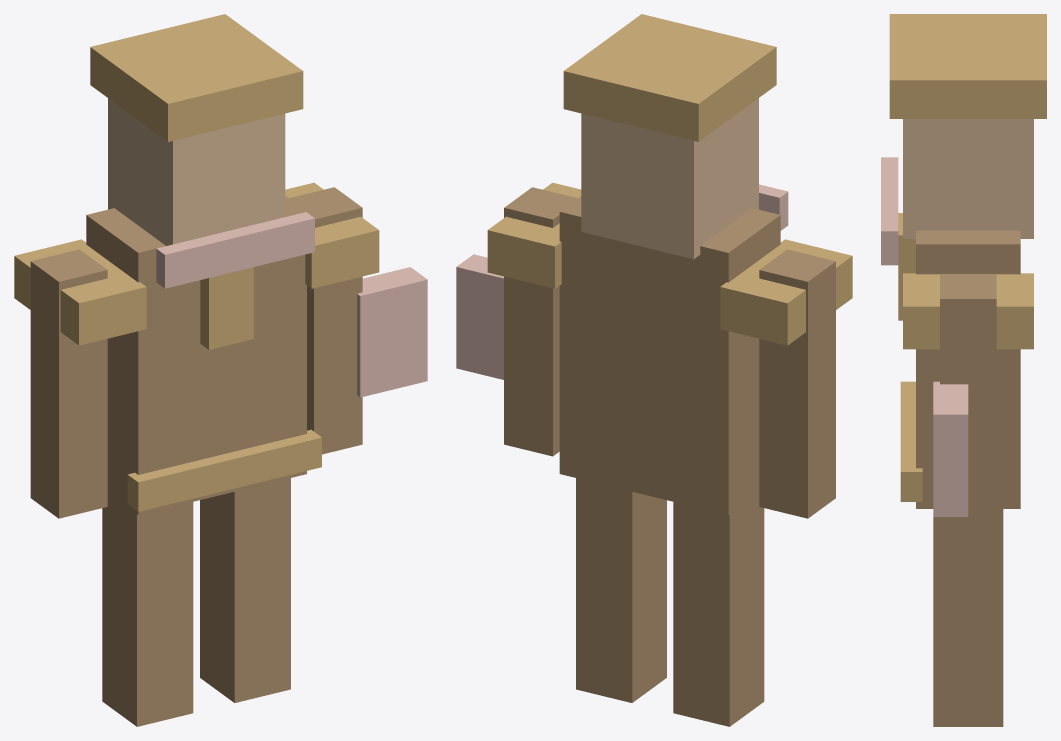
File: 06_asha_holloway_cartographer_near_compass.glb
3 renders of one model, left to right at view 1: azimuth 30°, elevation 25°; view 2: azimuth 150°, elevation 25°; view 3: azimuth 270°, elevation 25°, orthographic.
Visible parts, largest first — view 1: Asha Holloway, Cartographer near Compass; view 2: Asha Holloway, Cartographer near Compass; view 3: Asha Holloway, Cartographer near Compass.
Part boxes in pixels (x1,y1,x2,y2): Asha Holloway, Cartographer near Compass: [14, 14, 427, 726]; Asha Holloway, Cartographer near Compass: [456, 14, 852, 726]; Asha Holloway, Cartographer near Compass: [881, 14, 1046, 726].
Bounding box in the file's own units: 0.9336 × 1.55 × 0.3639.
